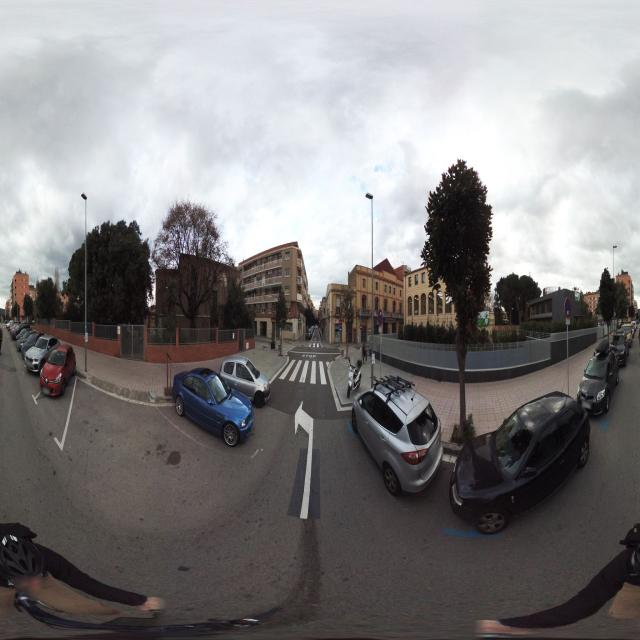car: (449, 389, 591, 532), (172, 368, 255, 448), (215, 358, 271, 406), (578, 360, 618, 414), (39, 342, 77, 398), (24, 334, 62, 374), (594, 348, 619, 381), (611, 332, 628, 367), (16, 327, 36, 351), (620, 322, 633, 344)
